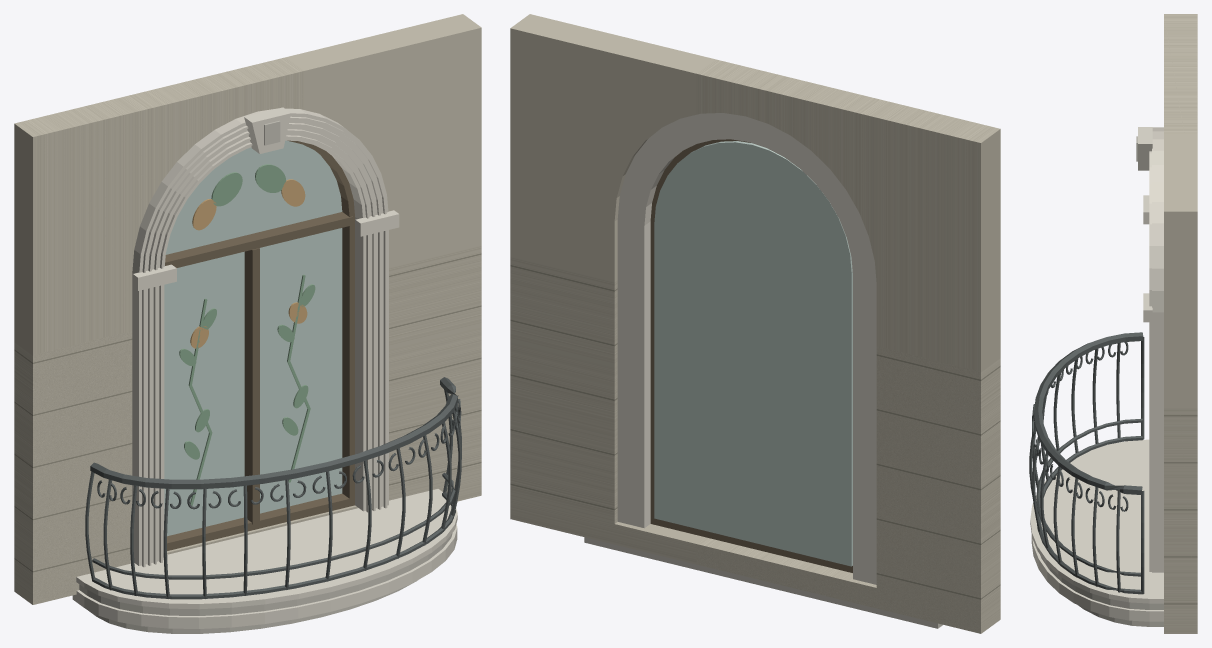
Rendered from dongping-lane-one-bowed-balcony-far.glb.
3 renders of one model, left to right at view 1: azimuth 30°, elevation 25°; view 2: azimuth 150°, elevation 25°; view 3: azimuth 270°, elevation 25°, orthographic. The views are drawn at different scales.
Visible parts, largest first — view 1: 东平路住宅弧形铁阳台与彩玻圆首门; view 2: 东平路住宅弧形铁阳台与彩玻圆首门; view 3: 东平路住宅弧形铁阳台与彩玻圆首门.
Part boxes in pixels (left/top/right/bottom): 东平路住宅弧形铁阳台与彩玻圆首门: left=14, top=14, right=481, bottom=633; 东平路住宅弧形铁阳台与彩玻圆首门: left=510, top=14, right=1000, bottom=633; 东平路住宅弧形铁阳台与彩玻圆首门: left=1029, top=14, right=1197, bottom=633.
Size of the model in its own units: 2.64 by 2.74 by 0.9496.
8 materials, 1 textured.
